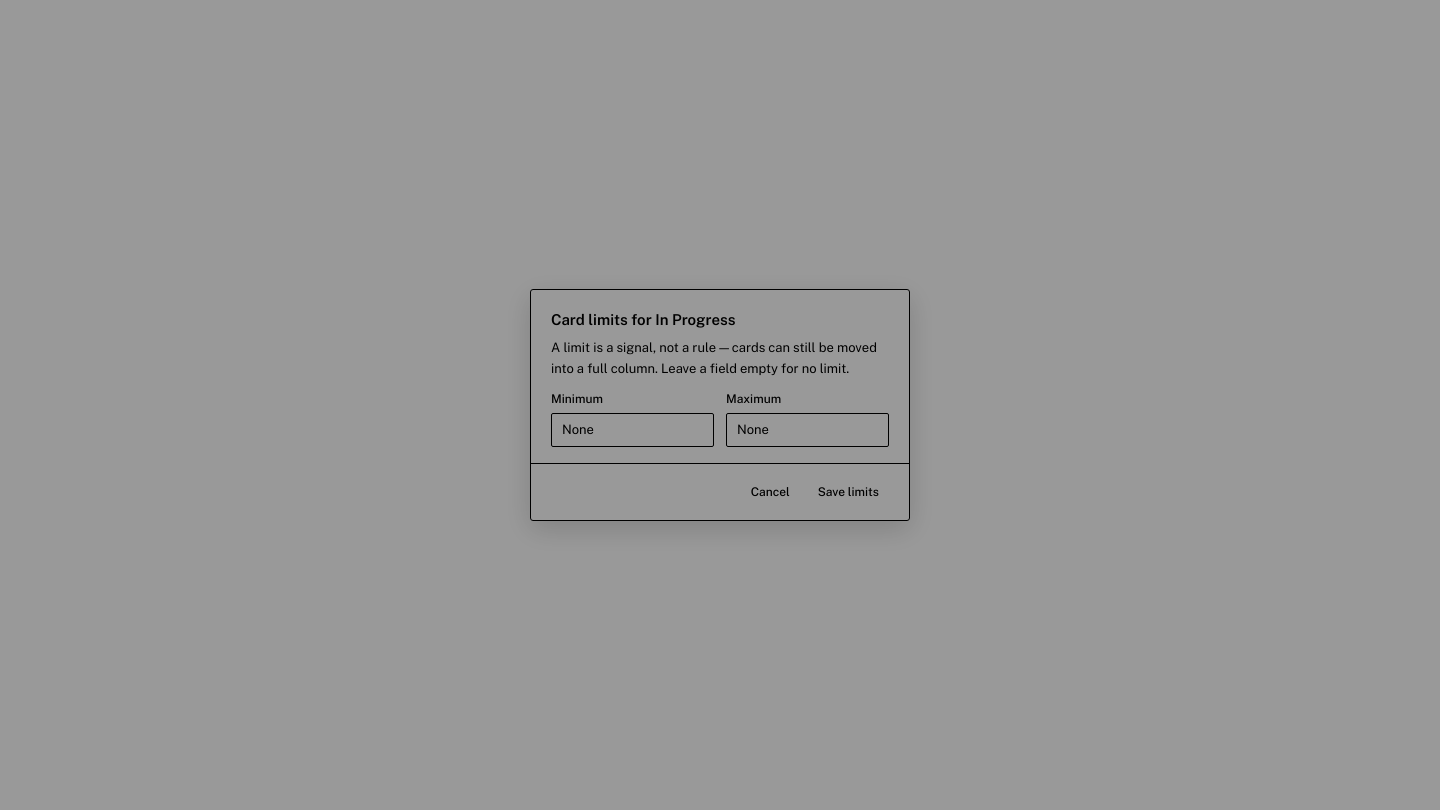
ColumnLimitDialog › stays open and says why when the save is rejected (S3.2)
Type "3" into the field labelled "Maximum".
click(808, 430); type("3")  # box [726,413,889,447]
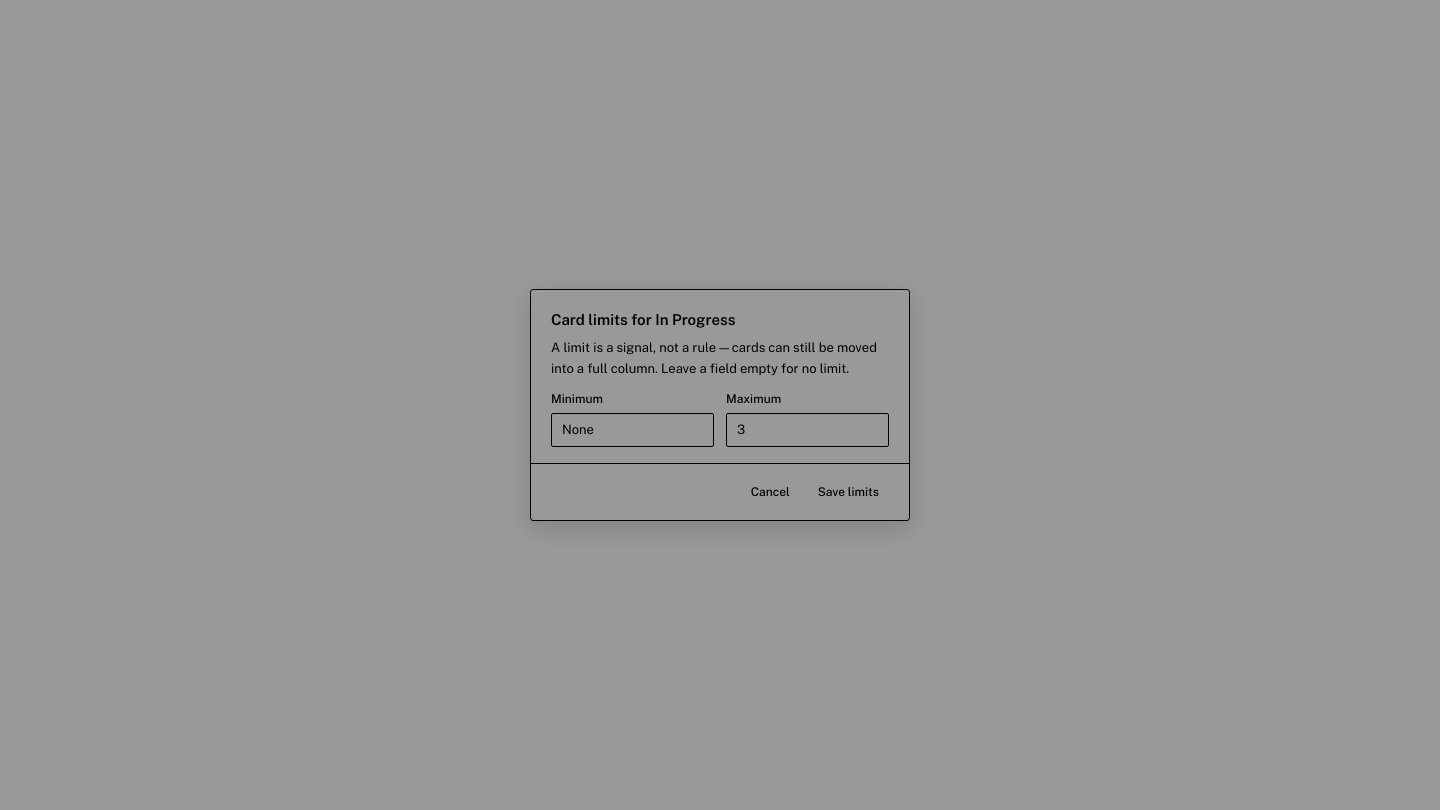
Click the button "Save limits".
click(848, 492)  # box [808,478,889,506]
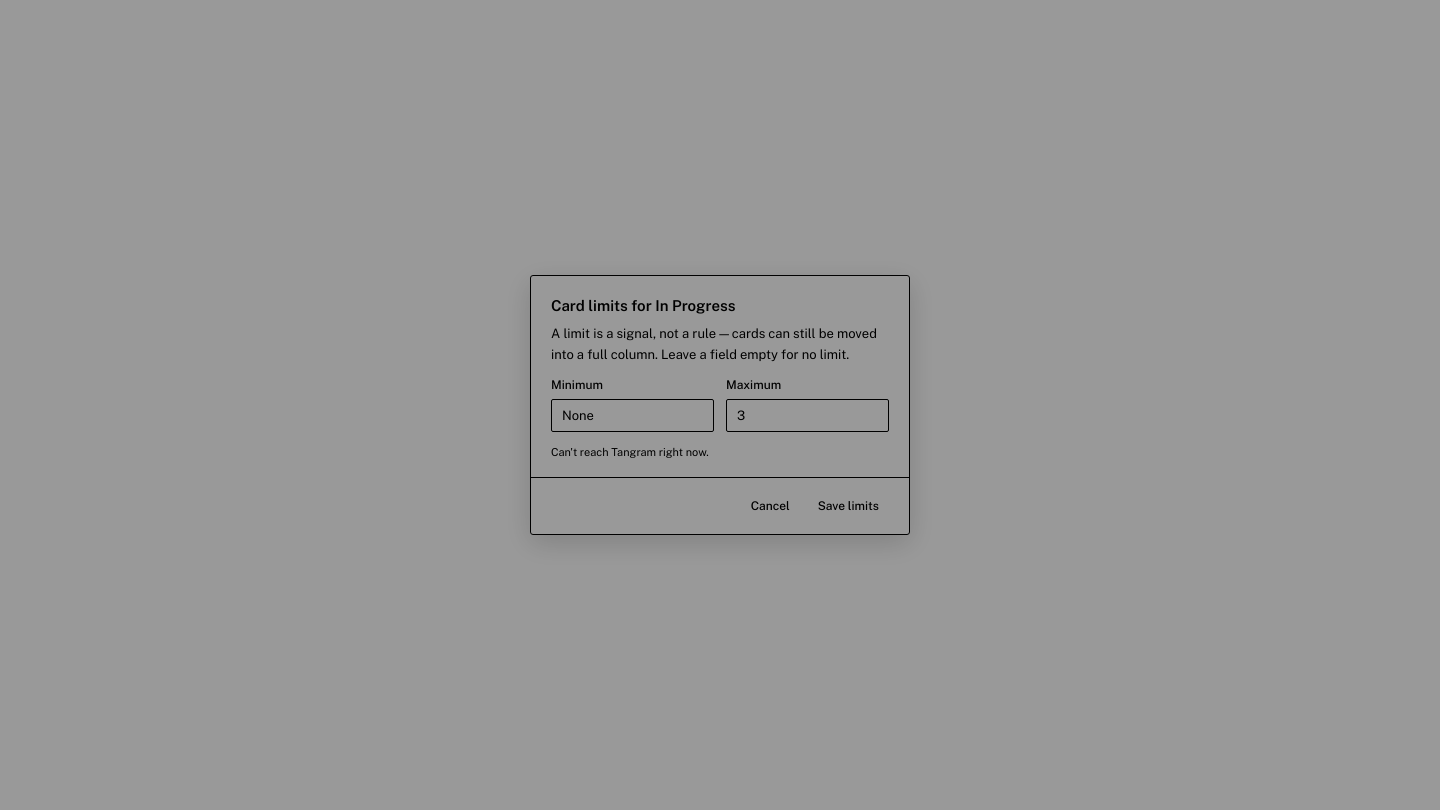
Result: the message shows "Can't reach Tangram" at [551,446,709,458]
